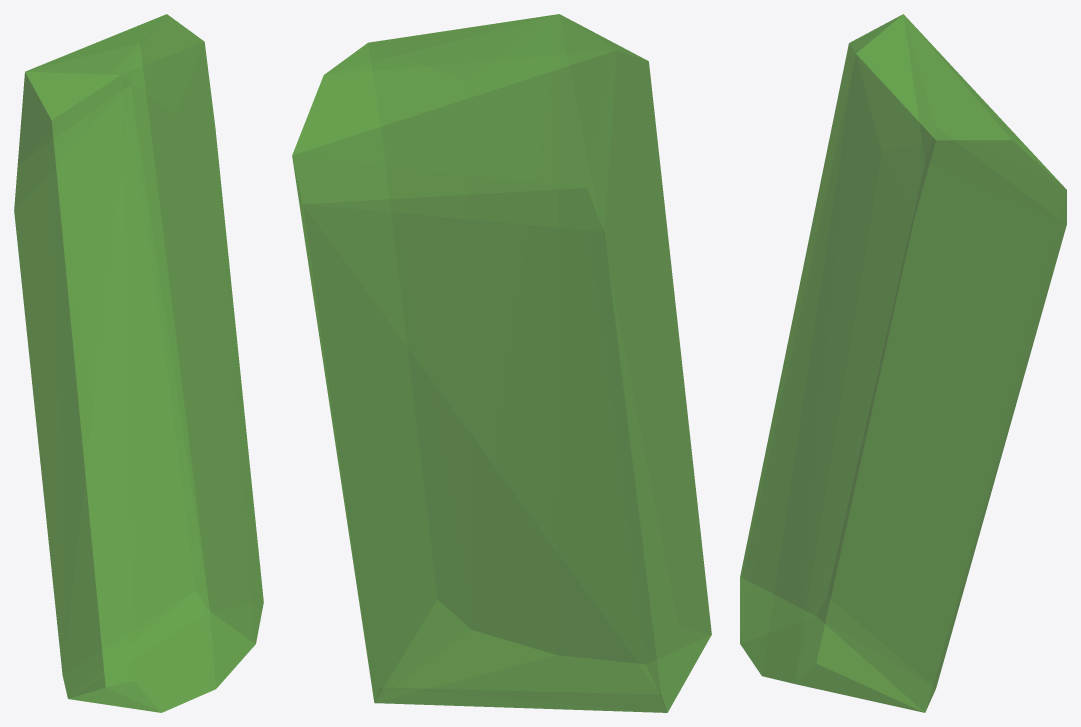
3 renders of one model, left to right at view 1: azimuth 30°, elevation 25°; view 2: azimuth 150°, elevation 25°; view 3: azimuth 270°, elevation 25°, orthographic. The views are drawn at different scales.
Visible parts, largest first — view 1: Shape_IndexedFaceSet.060_Shape_IndexedFaceSet.2025; view 2: Shape_IndexedFaceSet.060_Shape_IndexedFaceSet.2025; view 3: Shape_IndexedFaceSet.060_Shape_IndexedFaceSet.2025.
Boxes of the visible parts, x1,y1,x2,y2 form: Shape_IndexedFaceSet.060_Shape_IndexedFaceSet.2025: (14, 14, 263, 712); Shape_IndexedFaceSet.060_Shape_IndexedFaceSet.2025: (292, 14, 711, 712); Shape_IndexedFaceSet.060_Shape_IndexedFaceSet.2025: (740, 14, 1066, 712).
Bounding box in the file's own units: 0.1118 × 0.3245 × 0.1596.
